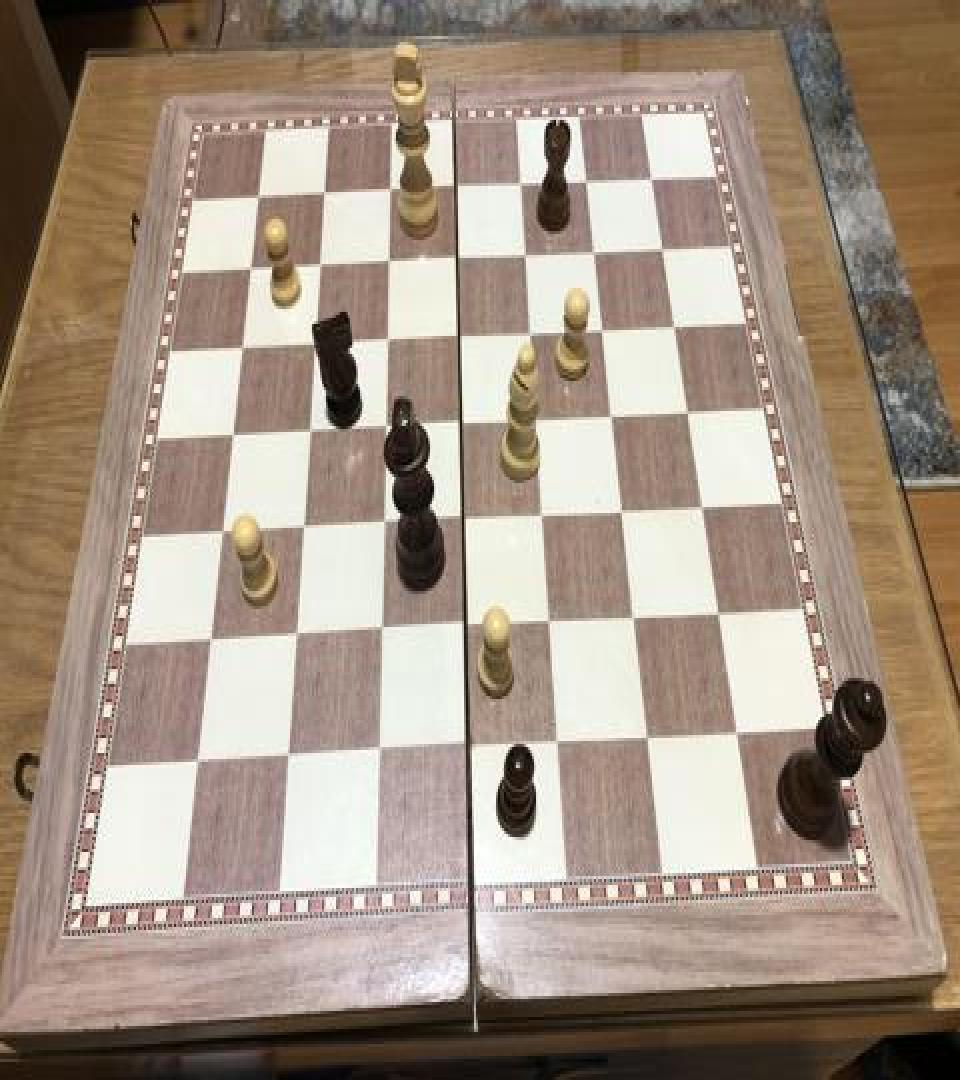xcorner: (367, 610, 391, 647), (722, 712, 746, 749), (184, 739, 208, 776), (638, 164, 662, 200), (573, 166, 597, 202), (508, 168, 532, 204), (443, 171, 467, 207), (377, 174, 401, 210), (312, 177, 336, 213), (246, 180, 270, 216), (649, 232, 673, 268), (581, 236, 605, 272), (512, 238, 536, 274), (444, 242, 468, 278), (376, 244, 400, 280), (307, 248, 331, 284), (238, 250, 262, 286), (661, 310, 685, 346), (589, 314, 613, 350), (517, 316, 541, 352), (446, 320, 470, 356), (374, 322, 398, 358), (302, 326, 326, 362), (230, 330, 254, 366), (674, 394, 698, 430), (598, 399, 622, 435), (523, 402, 547, 438), (447, 405, 471, 441), (372, 410, 396, 446), (220, 416, 244, 452), (688, 489, 712, 525), (609, 494, 633, 530), (529, 496, 553, 532), (449, 501, 473, 537), (369, 504, 393, 540), (289, 508, 313, 544), (209, 512, 233, 548), (704, 594, 728, 630), (620, 598, 644, 634), (536, 603, 560, 639), (451, 606, 475, 642), (282, 615, 306, 651), (198, 620, 222, 656), (633, 717, 657, 753), (543, 722, 567, 758), (454, 726, 478, 762), (364, 730, 388, 766), (274, 735, 298, 771), (296, 413, 320, 448)
